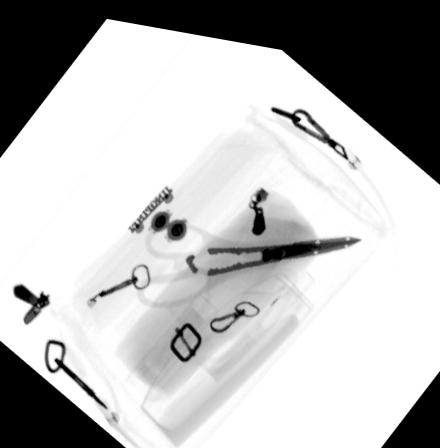Scissors: (133, 213, 362, 304)
